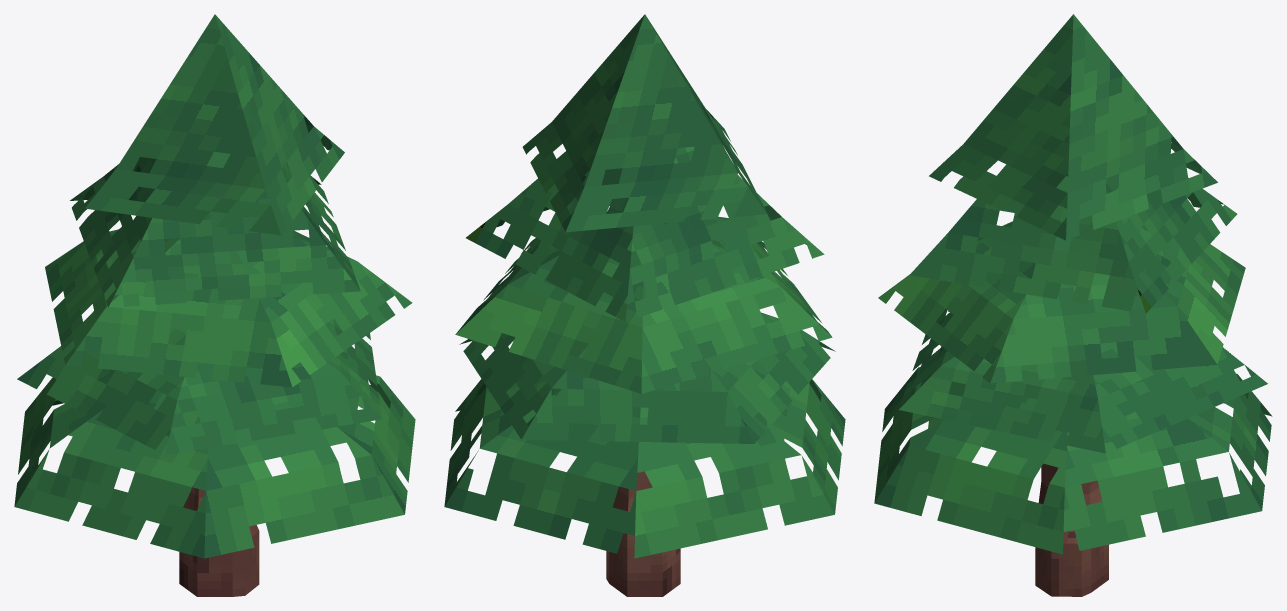
Rendered from evergreen.fbx.
3 views of the same model, side by side, from view 1: azimuth 30°, elevation 25°; view 2: azimuth 150°, elevation 25°; view 3: azimuth 270°, elevation 25° (orthographic).
Visible parts, largest first — view 1: Circle; view 2: Circle; view 3: Circle.
Part boxes in pixels (bbox=[...]): Circle: bbox=[14, 14, 415, 596]; Circle: bbox=[444, 14, 845, 596]; Circle: bbox=[874, 14, 1272, 596].
Size of the model in its own units: 1232 by 1385 by 1934.
Materials: 1 (1 with a texture image).
